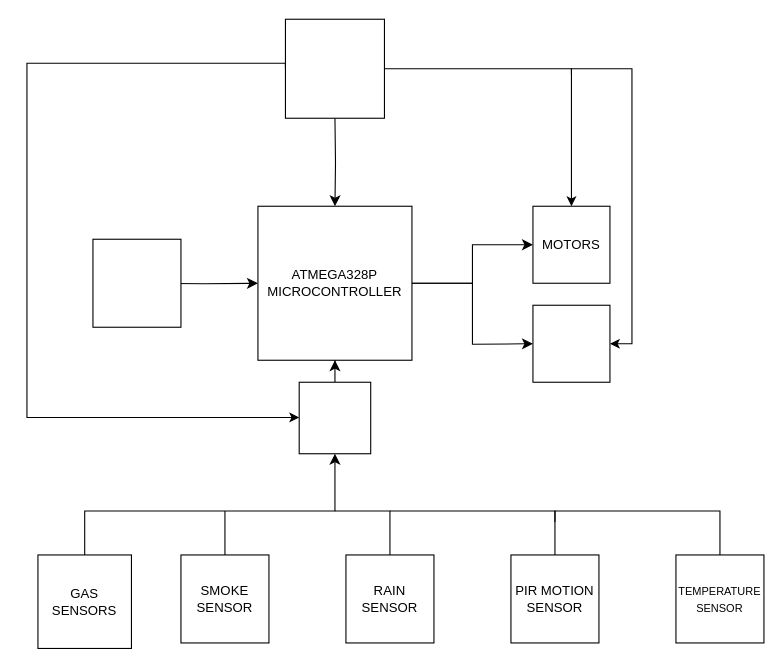
The diagram is 783 pixels wide and 668 high, and some of its shapes have lost their labels. Here are the shapes that lost their labels. From the top down, the centre of each, then its label:
At (x=334, y=68): "POWER SUPPLY UNIT".
At (x=136, y=282): "IR REMOTE CONTROL".
At (x=571, y=343): "LCD DISPLAY".
At (x=334, y=417): "SENSORS".
